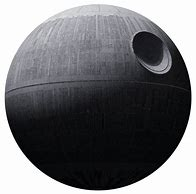Death Star: (7, 4, 191, 190)
